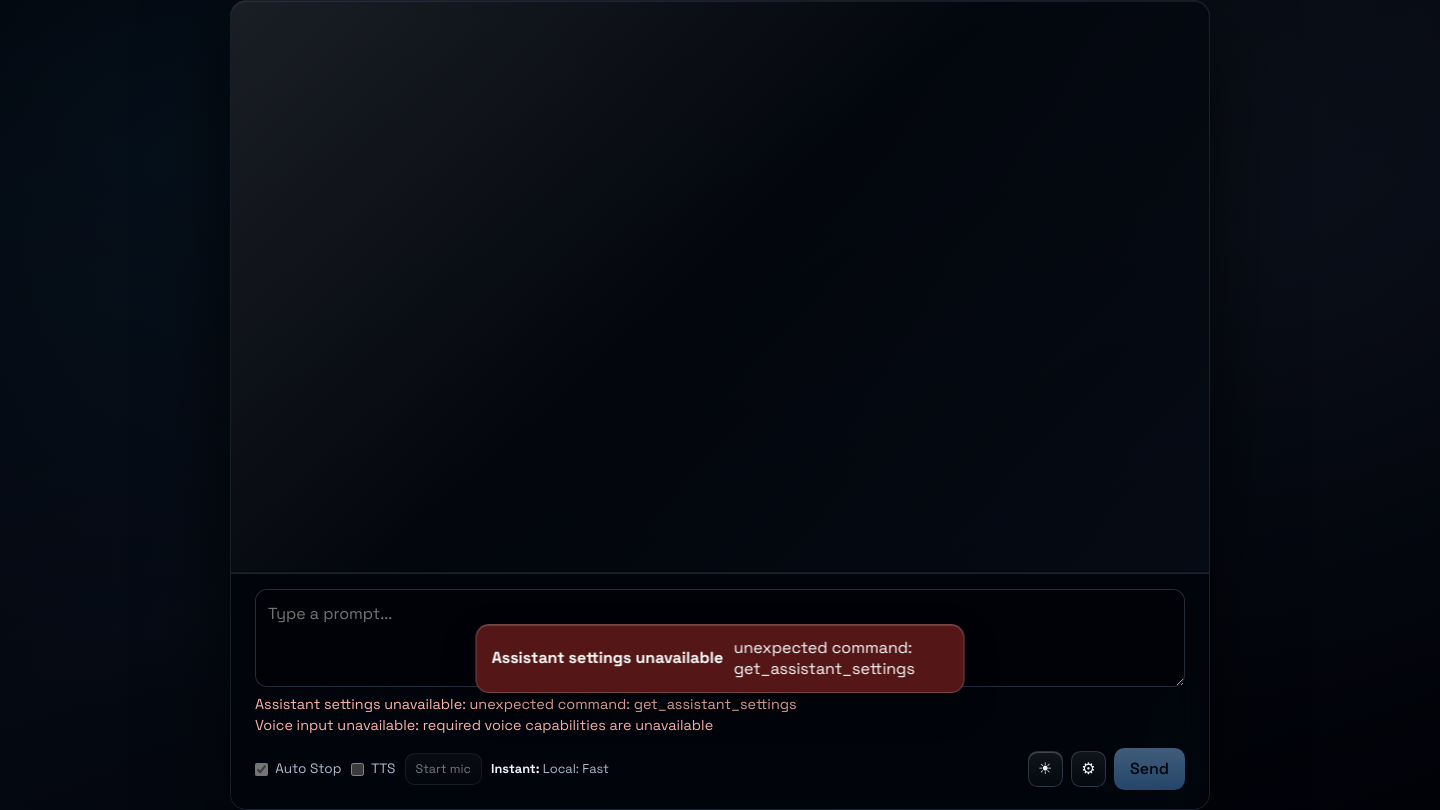
App › starts in persisted dark mode and toggles to light mode
What coordinates should you click on to do the following:
click the button "☀"
I would click on:
 (1045, 769)
Its box is [1028, 751, 1063, 787].
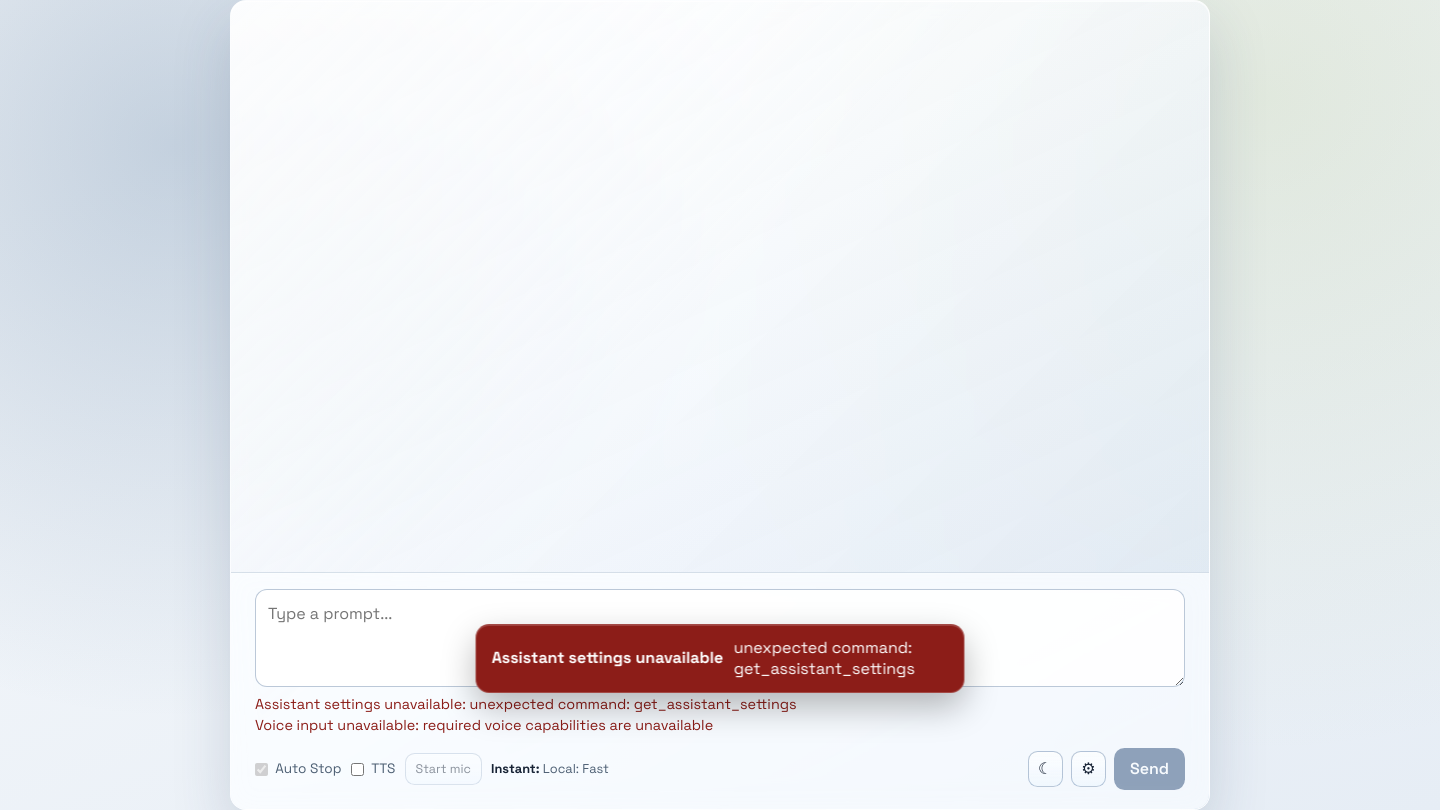
Now the button "☾" is shown, box [1028, 751, 1063, 787]
